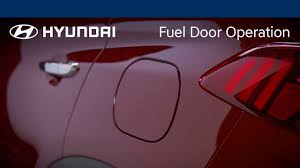closed: (112, 54, 180, 144)
